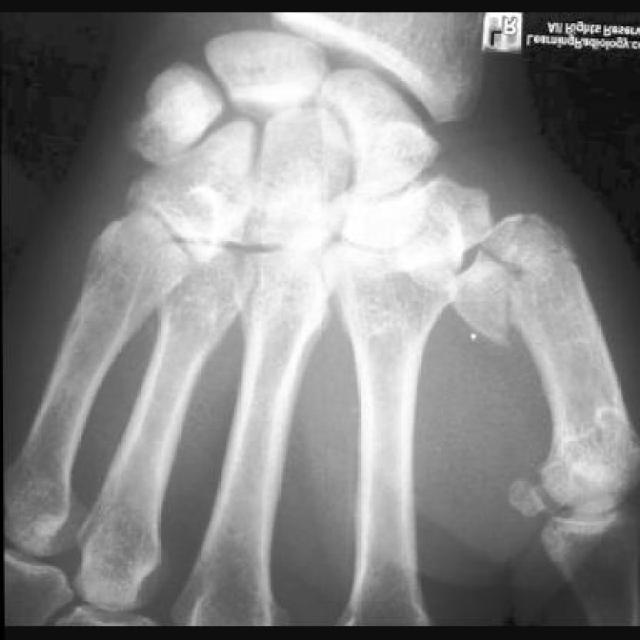Fracture: (443, 211, 581, 349)
